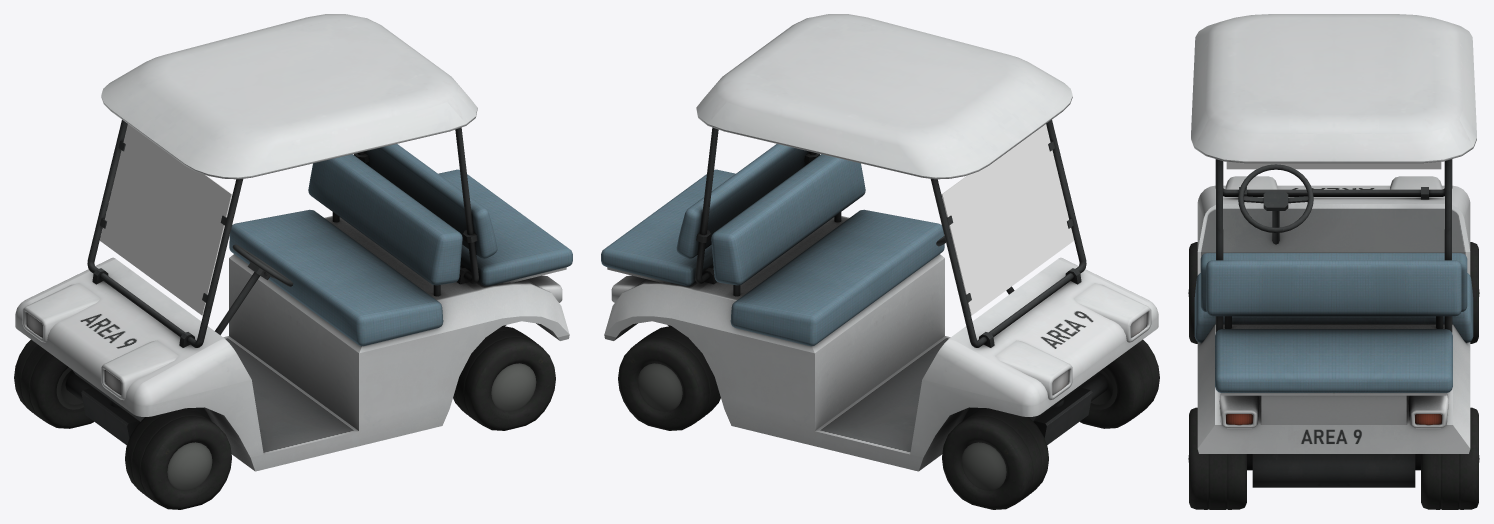
Rendered from golfcart.glb.
The picture shows the model from 3 angles, left to right: view 1: azimuth 30°, elevation 25°; view 2: azimuth 150°, elevation 25°; view 3: azimuth 270°, elevation 25°; orthographic projection. The views are drawn at different scales.
Parts seen in each view (by area): view 1: Chassis, Window, LeftWheel, RightWheel, SteeringWheel; view 2: Chassis, Window, RightWheel, LeftWheel; view 3: Chassis, SteeringWheel, Window, LeftWheel, RightWheel.
Part boxes in pixels (box(x1,y1,x2,y2)): Chassis: box(15, 14, 572, 471); Window: box(100, 124, 232, 315); LeftWheel: box(125, 408, 231, 509); RightWheel: box(14, 339, 93, 428); SteeringWheel: box(232, 244, 293, 286); Chassis: box(601, 14, 1158, 471); Window: box(941, 124, 1073, 315); RightWheel: box(942, 408, 1048, 509); LeftWheel: box(1080, 339, 1159, 428); Chassis: box(1188, 14, 1479, 509); SteeringWheel: box(1238, 164, 1313, 232); Window: box(1226, 161, 1441, 169); LeftWheel: box(1188, 242, 1197, 343); RightWheel: box(1470, 242, 1479, 343).
Size of the model in its own units: 123 by 90.4 by 66.23.
Materials: 2 (1 with a texture image).
